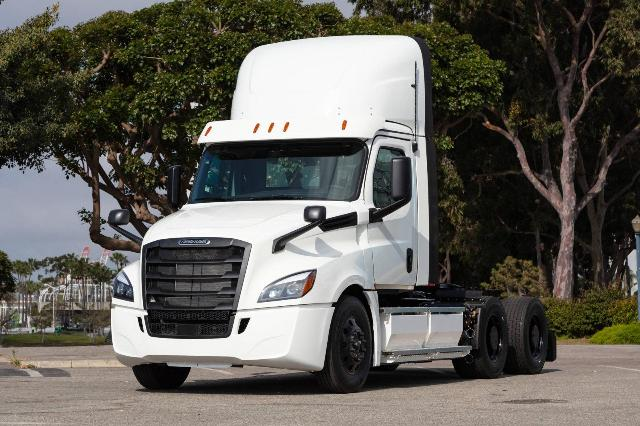truck: (89, 30, 556, 397)
